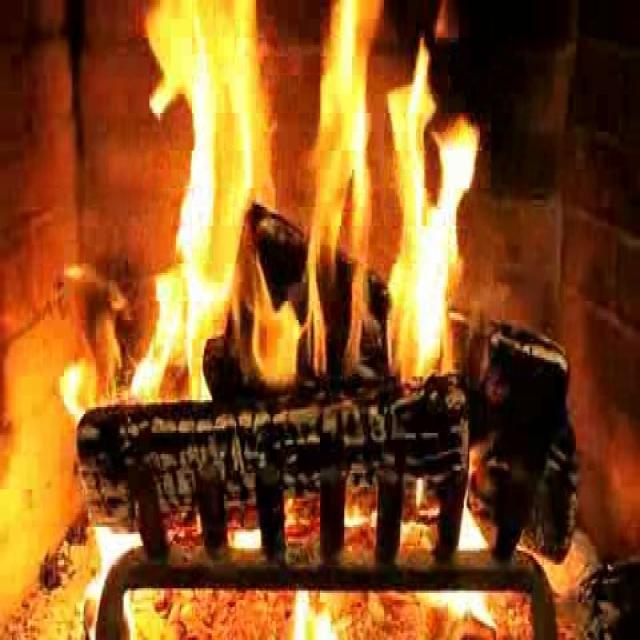Fire: (146, 0, 462, 384)
